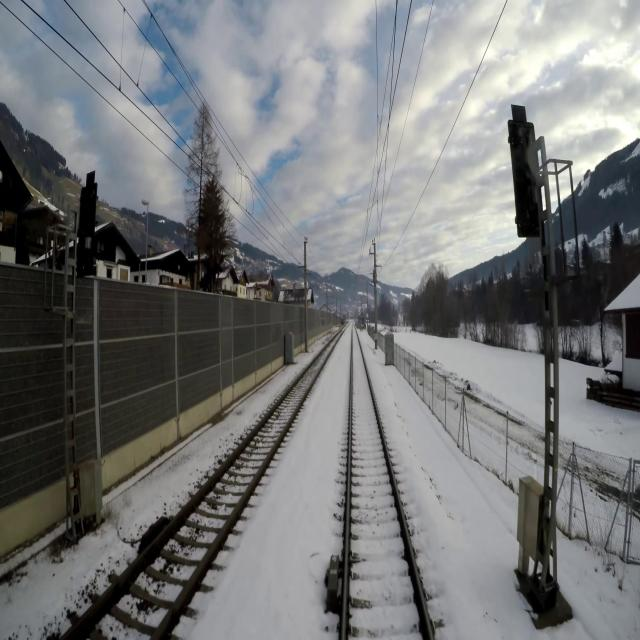rail-track: (68, 337, 336, 639), (346, 328, 428, 639)
